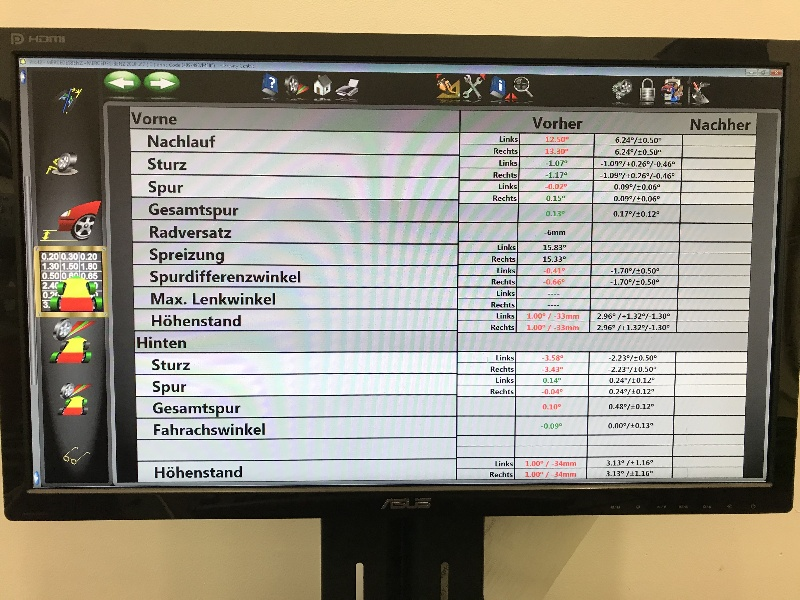wam_one: (124, 102, 589, 483)
